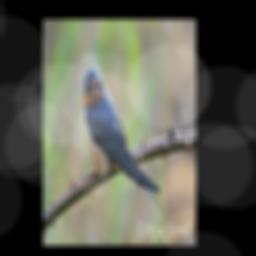Swallow: (80, 66, 175, 233)
